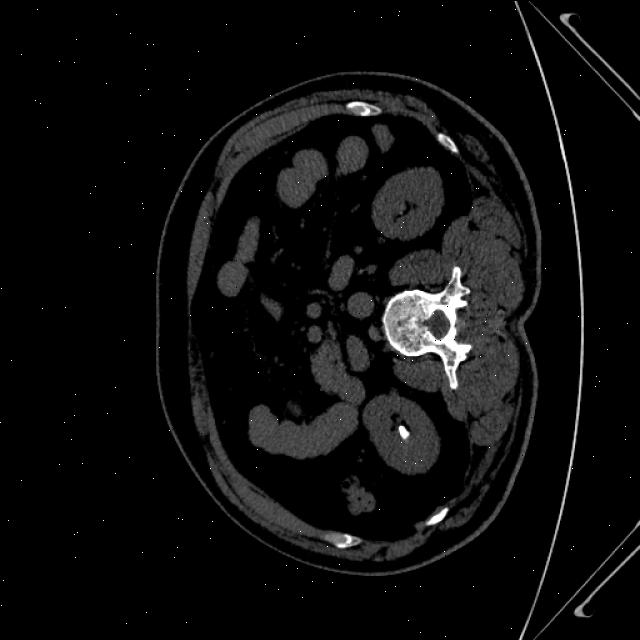kidneystone: (398, 424, 409, 439)
